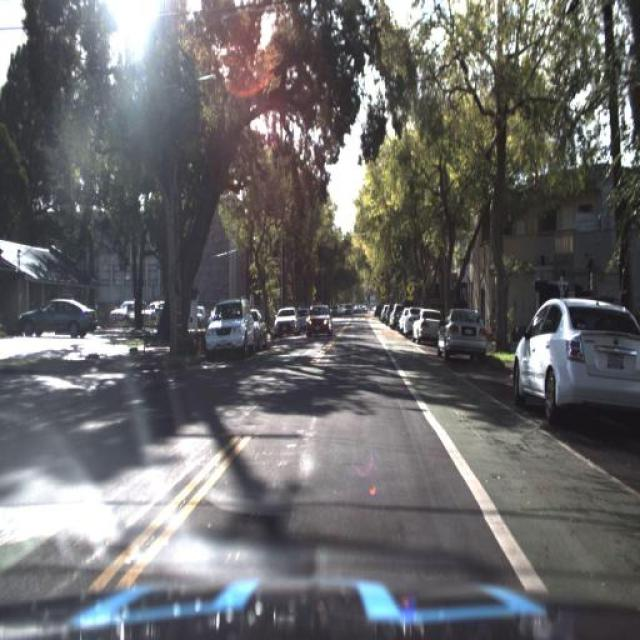car: (506, 278, 640, 450), (506, 291, 639, 418), (11, 289, 100, 350), (433, 302, 496, 371), (18, 290, 97, 340), (204, 298, 251, 358), (438, 311, 487, 359), (301, 302, 334, 342), (411, 303, 442, 343), (244, 302, 270, 342), (412, 306, 438, 346), (305, 303, 333, 337), (270, 304, 298, 336), (194, 296, 208, 328)
